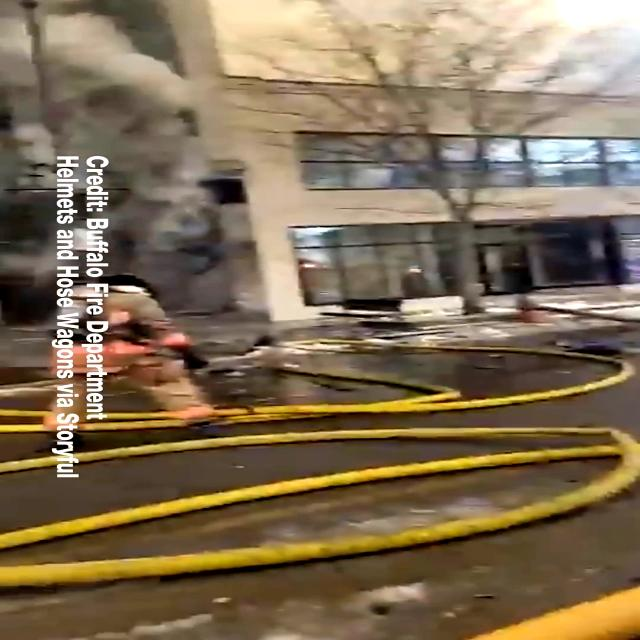Smoke: (0, 0, 219, 153)
